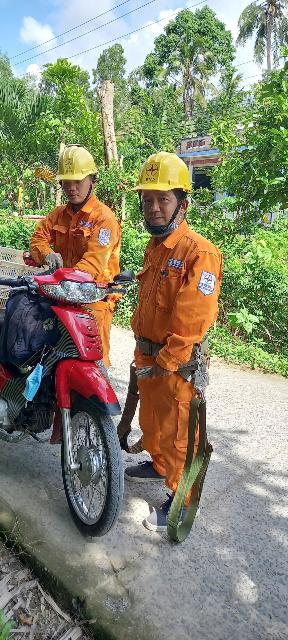gloves: (42, 252, 68, 272)
harness: (118, 327, 209, 380)
helmet: (133, 150, 200, 195), (48, 137, 102, 192)
shoes: (139, 487, 205, 537), (118, 453, 178, 492)
